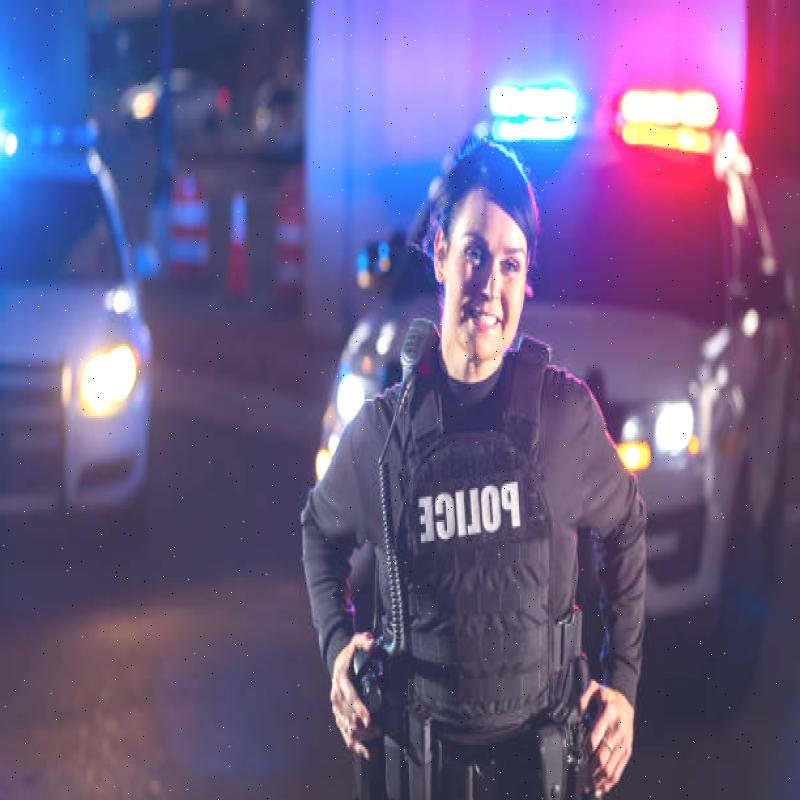AmbulanceSiren: (461, 88, 703, 133)
